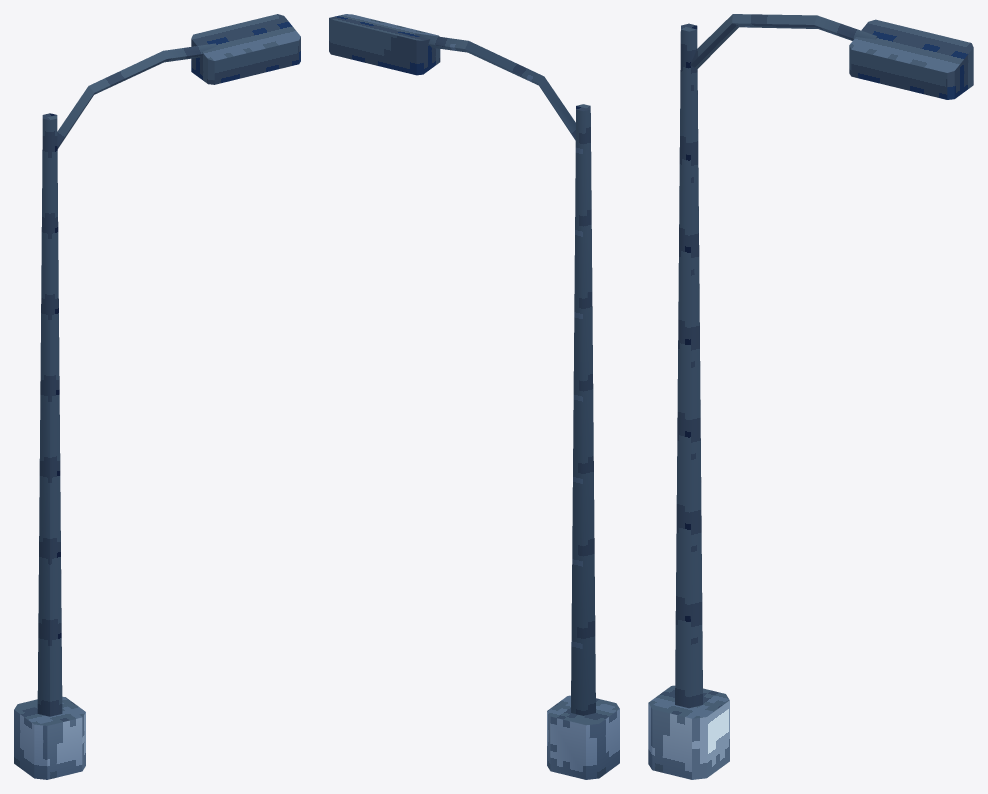
Rendered from cytech.street_light.glb.
The picture shows the model from 3 angles, left to right: view 1: azimuth 30°, elevation 25°; view 2: azimuth 150°, elevation 25°; view 3: azimuth 330°, elevation 25°; orthographic projection. The views are drawn at different scales.
Visible parts, largest first — view 1: kit_pole; view 2: kit_pole; view 3: kit_pole.
Part boxes in pixels (box(x1,y1,x2,y2)): kit_pole: box(14, 14, 300, 779); kit_pole: box(329, 14, 619, 779); kit_pole: box(648, 14, 973, 779).
Bounding box in the file's own units: 2.6 × 6.35 × 0.5.
Materials: 5 (5 with a texture image).
